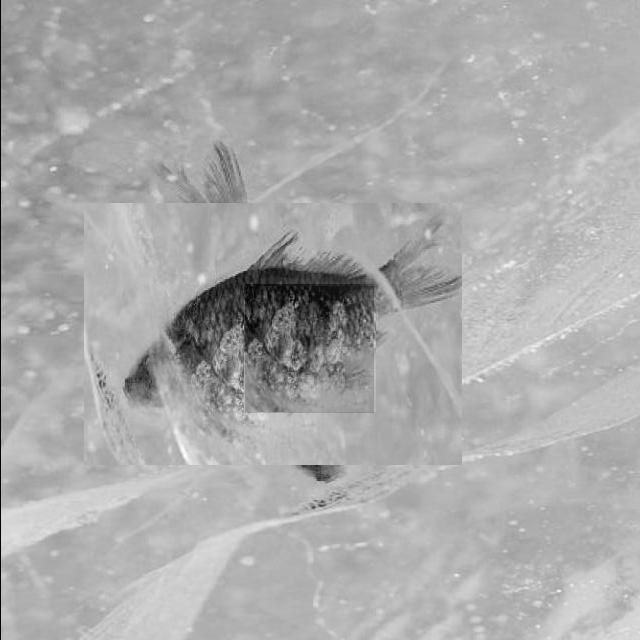EUS Disease: (111, 173, 432, 494), (244, 284, 373, 413)
